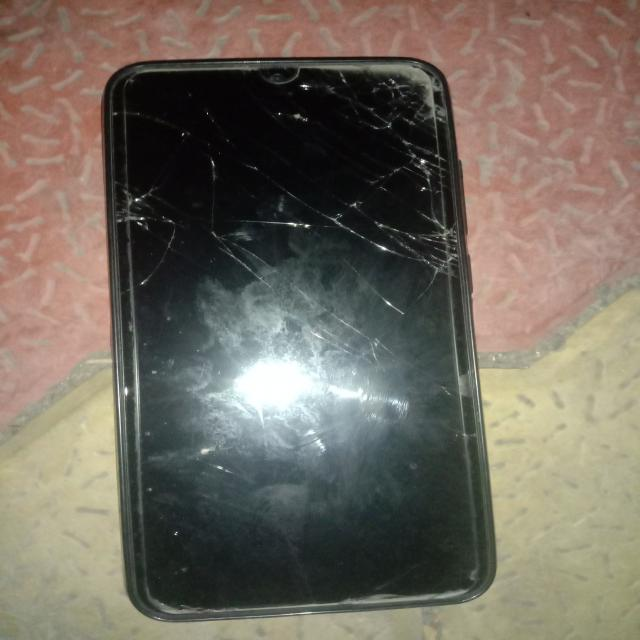screen crack: (262, 43, 474, 277), (99, 168, 187, 291)
